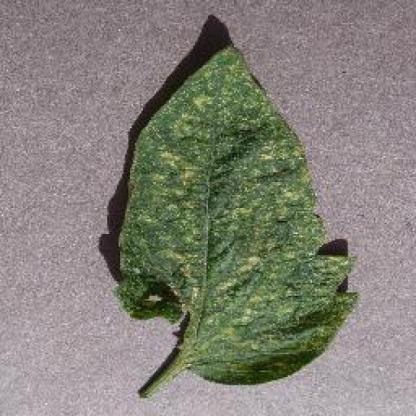Tomato_Spider_Mites: (120, 45, 356, 385)
